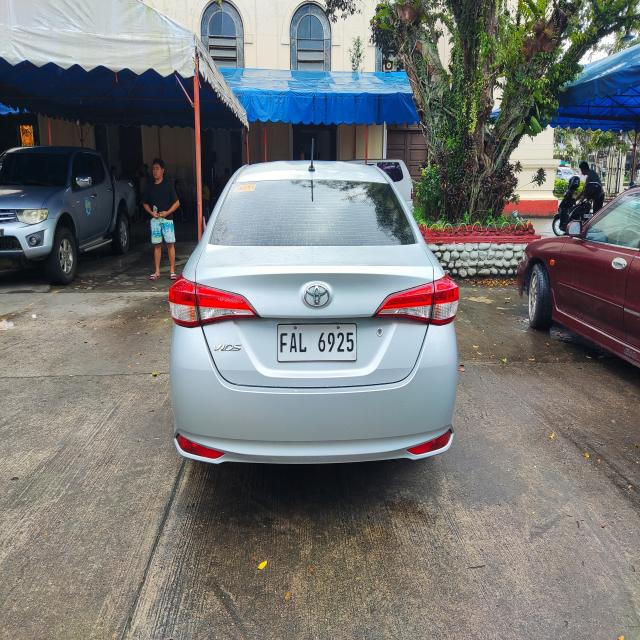plate: (276, 322, 358, 363)
